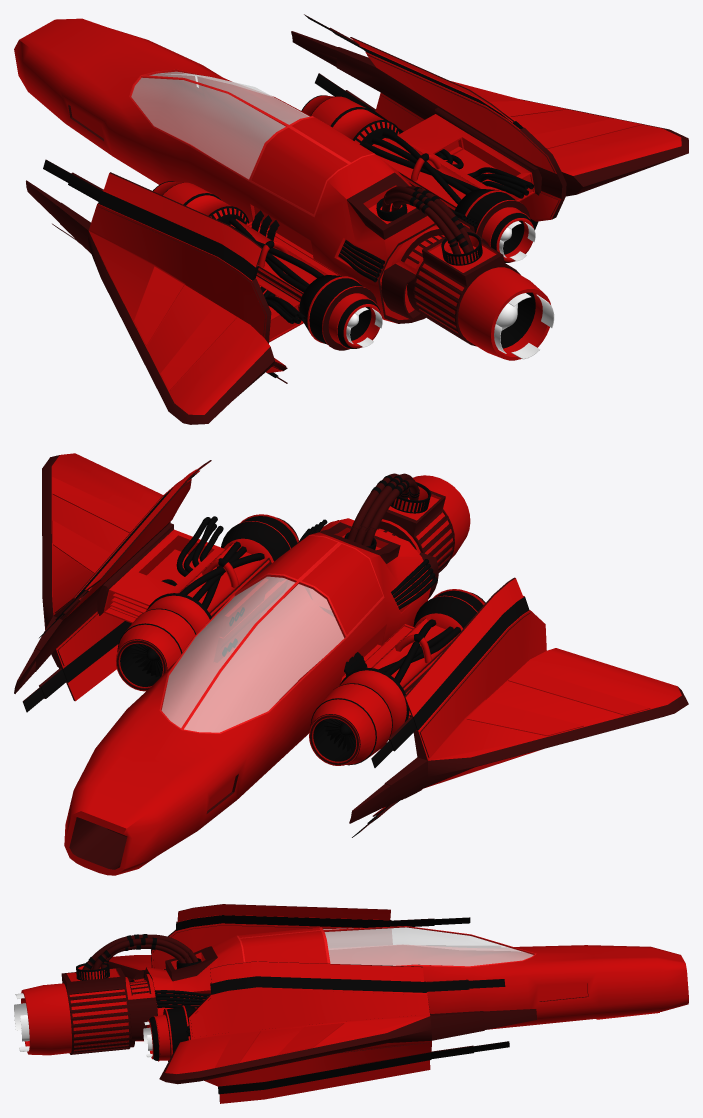
File: wip_weird_sh_ship.glb
3 views of the same model, one above another, from view 1: azimuth 30°, elevation 25°; view 2: azimuth 150°, elevation 25°; view 3: azimuth 270°, elevation 25° (orthographic). The views are drawn at different scales.
Visible parts, largest first — view 1: Cube, Cube.001; view 2: Cube, Cube.001; view 3: Cube, Cube.001.
Boxes of the visible parts, x1=… form: Cube: x1=14, y1=14, x2=688, y2=424; Cube.001: x1=376, y1=186, x2=554, y2=360; Cube: x1=14, y1=453, x2=688, y2=875; Cube.001: x1=309, y1=473, x2=470, y2=610; Cube: x1=107, y1=904, x2=688, y2=1103; Cube.001: x1=14, y1=934, x2=201, y2=1055.
Size of the model in its own units: 0.2971 by 0.1095 by 0.3791.
